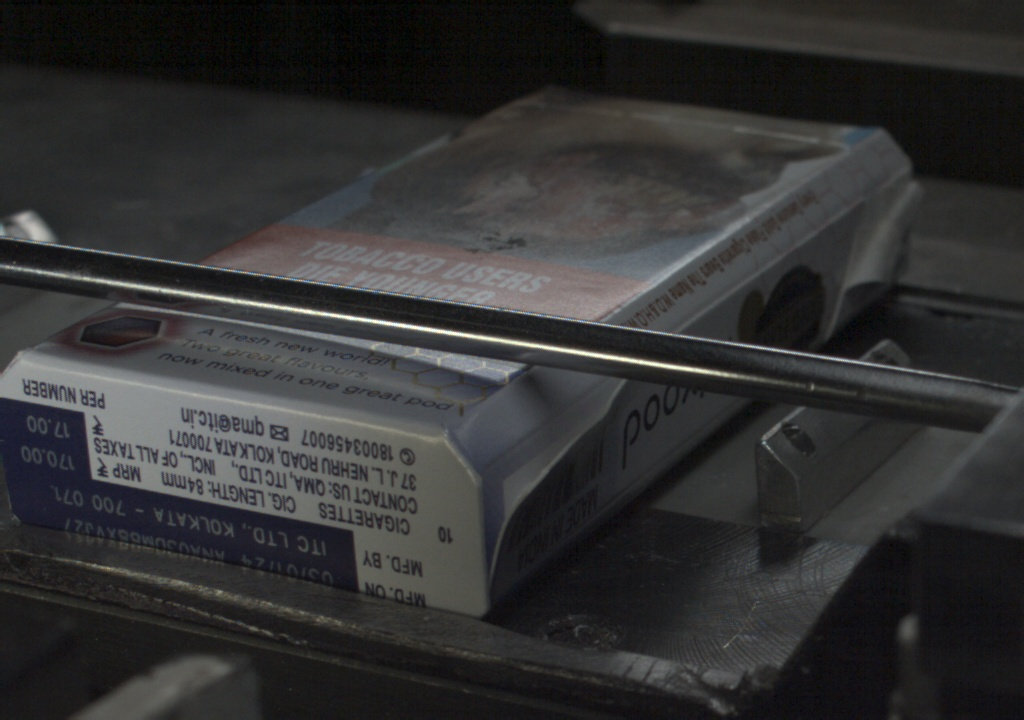g_bottom: (1, 351, 493, 624)
g_label: (5, 480, 355, 585)
g_lmiter: (766, 200, 851, 269), (676, 268, 766, 332)
ng_lmiter: (479, 435, 562, 546), (567, 379, 617, 453)
ng_miter: (846, 170, 923, 296)
price: (1, 406, 86, 476)
